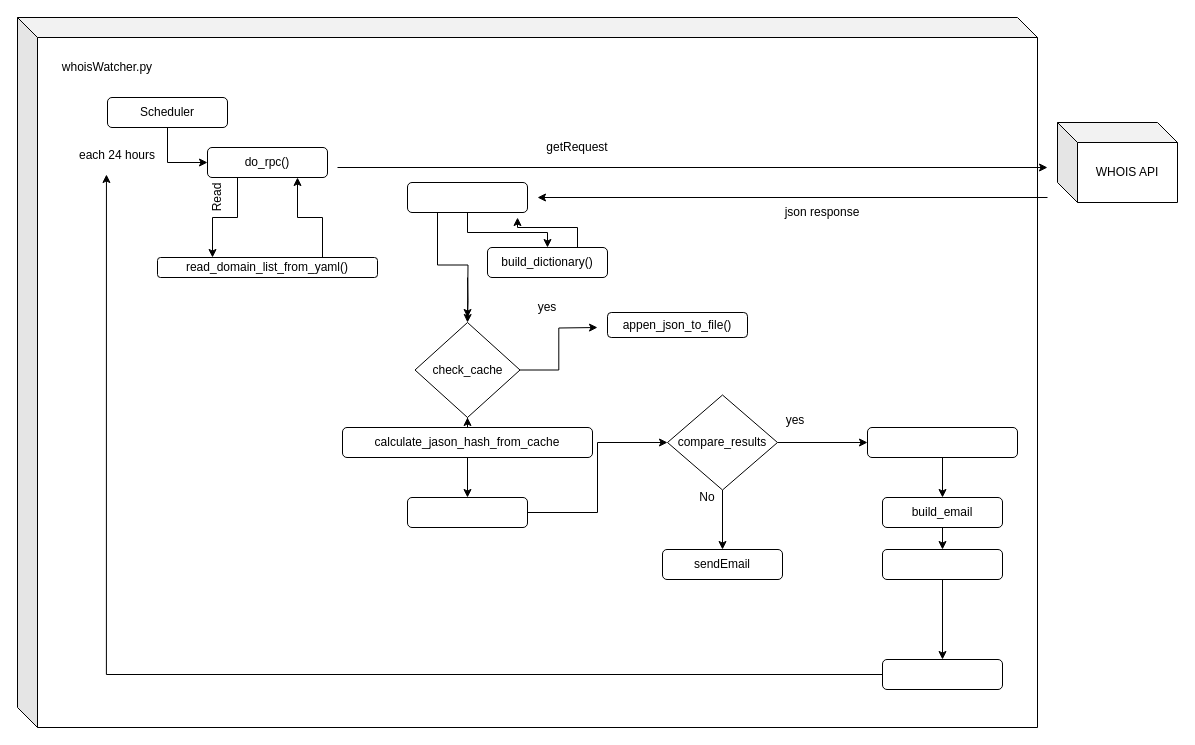
This 1195x745 diagram has some shape labels left out. Each missing label, with the centre of its shape:
"calculate_hash" belongs at [467,512].
"normalizer()" belongs at [467,197].
"retrieve_archived_whois" belongs at [942,442].
"send_email" belongs at [942,564].
"update_cache" belongs at [942,674].
